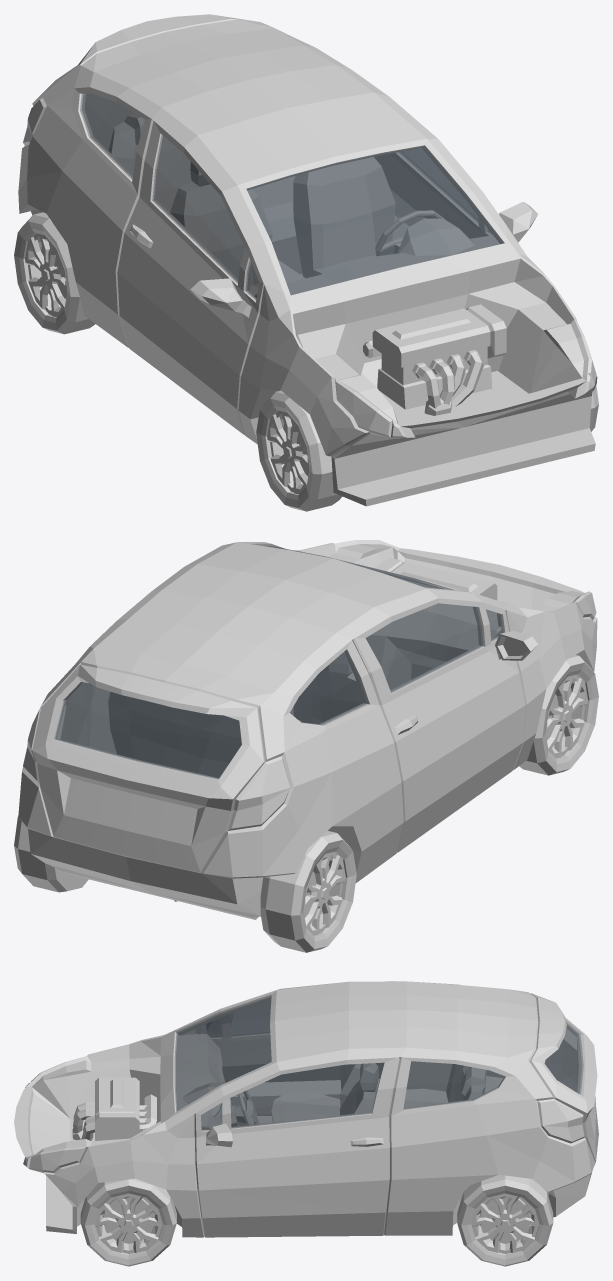
The model's file is Hatch_01_Base.glb.
The picture shows the model from 3 angles, top to bottom: view 1: azimuth 30°, elevation 25°; view 2: azimuth 150°, elevation 25°; view 3: azimuth 270°, elevation 25°; orthographic projection. The views are drawn at different scales.
Parts seen in each view (by area): view 1: SM_Veh_Hatch_01, SM_Veh_Hatch_01_Door_R, SM_Veh_Hatch_01_Glass, SM_Veh_Hatch_01_Seats_01_Front, SM_Veh_Hatch_01_Wheel_fr, SM_Veh_Hatch_01_Wheel_rr, SM_Veh_Hatch_01_Door_L, SM_Veh_Hatch_01_Seats_01_Rear, SM_Veh_Hatch_01_Boot, SM_Veh_Hatch_01_SteeringW; view 2: SM_Veh_Hatch_01, SM_Veh_Hatch_01_Door_R, SM_Veh_Hatch_01_Boot, SM_Veh_Hatch_01_Boot_Glass, SM_Veh_Hatch_01_Wheel_rr, SM_Veh_Hatch_01_Seats_01_Rear, SM_Veh_Hatch_01_Wheel_fr, SM_Veh_Hatch_01_Glass, SM_Veh_Hatch_01_Seats_01_Front, SM_Veh_Hatch_01_Wheel_rl; view 3: SM_Veh_Hatch_01, SM_Veh_Hatch_01_Door_L, SM_Veh_Hatch_01_Glass, SM_Veh_Hatch_01_Wheel_rl, SM_Veh_Hatch_01_Wheel_fl, SM_Veh_Hatch_01_Door_R, SM_Veh_Hatch_01_Boot, SM_Veh_Hatch_01_Seats_01_Front, SM_Veh_Hatch_01_Seats_01_Rear, SM_Veh_Hatch_01_Boot_Glass, SM_Veh_Hatch_01_SteeringW.
Boxes of the visible parts, bbox=[...] form: SM_Veh_Hatch_01: bbox=[18, 19, 597, 506]; SM_Veh_Hatch_01_Door_R: bbox=[117, 121, 263, 434]; SM_Veh_Hatch_01_Glass: bbox=[80, 93, 502, 295]; SM_Veh_Hatch_01_Seats_01_Front: bbox=[170, 157, 395, 294]; SM_Veh_Hatch_01_Wheel_fr: bbox=[256, 390, 342, 511]; SM_Veh_Hatch_01_Wheel_rr: bbox=[14, 212, 95, 334]; SM_Veh_Hatch_01_Door_L: bbox=[374, 148, 537, 242]; SM_Veh_Hatch_01_Seats_01_Rear: bbox=[108, 114, 302, 274]; SM_Veh_Hatch_01_Boot: bbox=[32, 14, 256, 150]; SM_Veh_Hatch_01_SteeringW: bbox=[375, 210, 443, 255]; SM_Veh_Hatch_01: bbox=[18, 540, 597, 919]; SM_Veh_Hatch_01_Door_R: bbox=[353, 598, 537, 852]; SM_Veh_Hatch_01_Boot: bbox=[32, 664, 264, 873]; SM_Veh_Hatch_01_Boot_Glass: bbox=[54, 682, 241, 779]; SM_Veh_Hatch_01_Wheel_rr: bbox=[260, 830, 356, 952]; SM_Veh_Hatch_01_Seats_01_Rear: bbox=[108, 692, 300, 777]; SM_Veh_Hatch_01_Wheel_fr: bbox=[519, 655, 598, 775]; SM_Veh_Hatch_01_Glass: bbox=[266, 546, 452, 724]; SM_Veh_Hatch_01_Seats_01_Front: bbox=[290, 652, 363, 723]; SM_Veh_Hatch_01_Wheel_rl: bbox=[14, 816, 88, 892]; SM_Veh_Hatch_01: bbox=[14, 981, 595, 1237]; SM_Veh_Hatch_01_Door_L: bbox=[194, 1057, 399, 1237]; SM_Veh_Hatch_01_Glass: bbox=[175, 996, 505, 1111]; SM_Veh_Hatch_01_Wheel_rl: bbox=[457, 1174, 553, 1266]; SM_Veh_Hatch_01_Wheel_fl: bbox=[80, 1178, 176, 1266]; SM_Veh_Hatch_01_Door_R: bbox=[196, 981, 387, 1115]; SM_Veh_Hatch_01_Boot: bbox=[530, 993, 598, 1162]; SM_Veh_Hatch_01_Seats_01_Front: bbox=[271, 1063, 378, 1122]; SM_Veh_Hatch_01_Seats_01_Rear: bbox=[404, 1064, 486, 1107]; SM_Veh_Hatch_01_Boot_Glass: bbox=[544, 1023, 583, 1094]; SM_Veh_Hatch_01_SteeringW: bbox=[236, 1090, 258, 1125].
Bounding box in the file's own units: 2.28 × 1.68 × 4.36.
